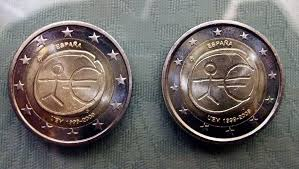eur002: (10, 22, 133, 149), (161, 19, 284, 144)
